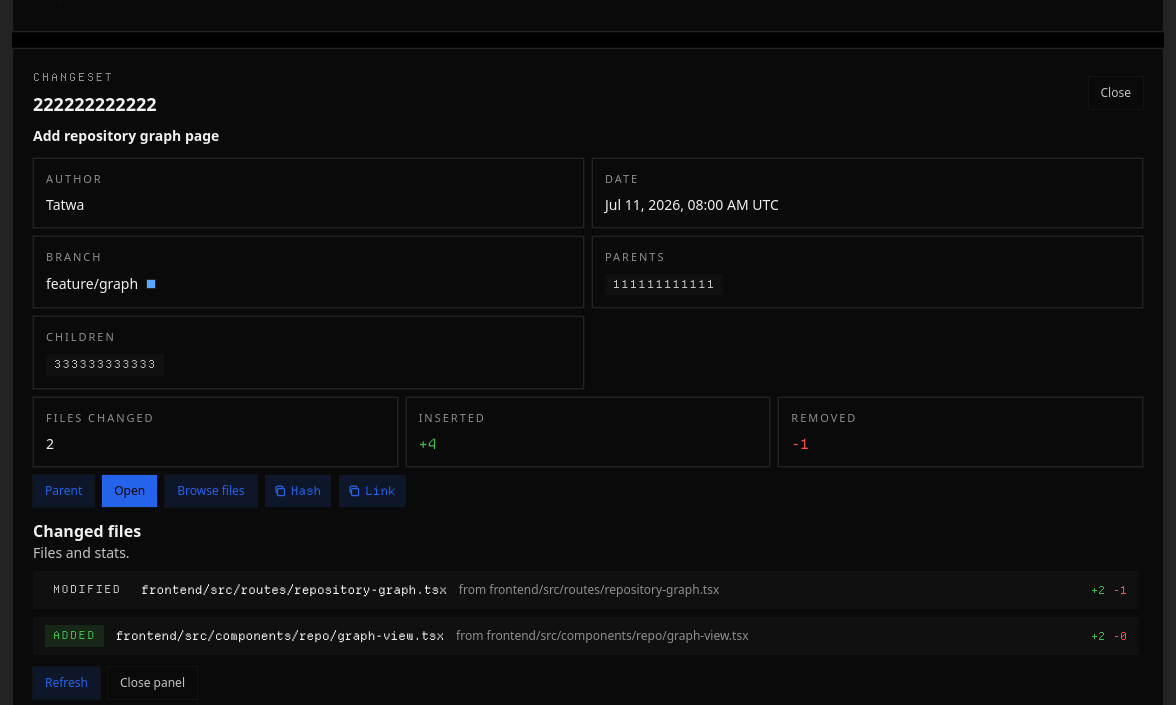
repository phase 2 pages › graph changed file click opens the history diff for that file
(page scrolled)
Expected: the heading "222222222222" is shown, [33,90,157,118]
Click the button "frontend/src/components/repo/graph-view.tsx" at (586, 636), box [33,617,1139,655]
(page scrolled)
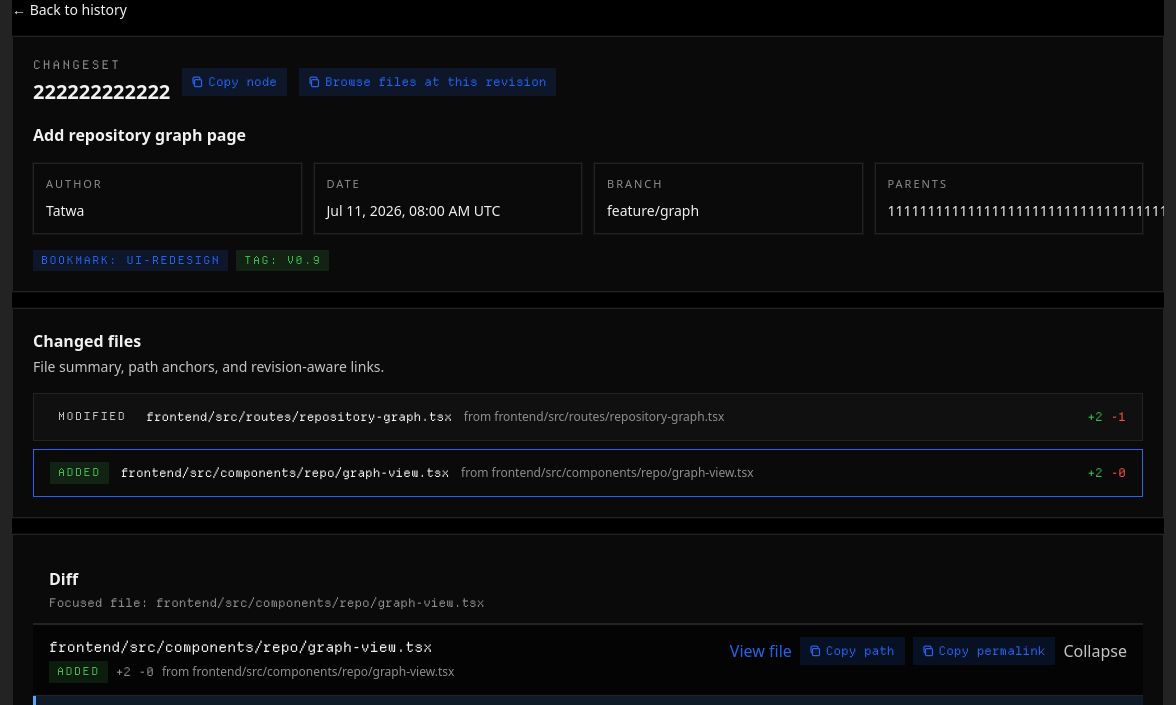
Expected: the text "Focused file: frontend/src/components/repo/graph-view.tsx" is shown, [49,595,484,610]
Expected: the link "← Back to history" is shown, [12,0,127,19]
